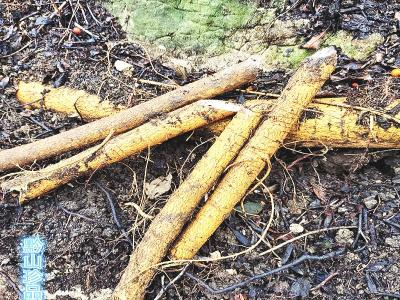Root: (0, 47, 370, 300)
